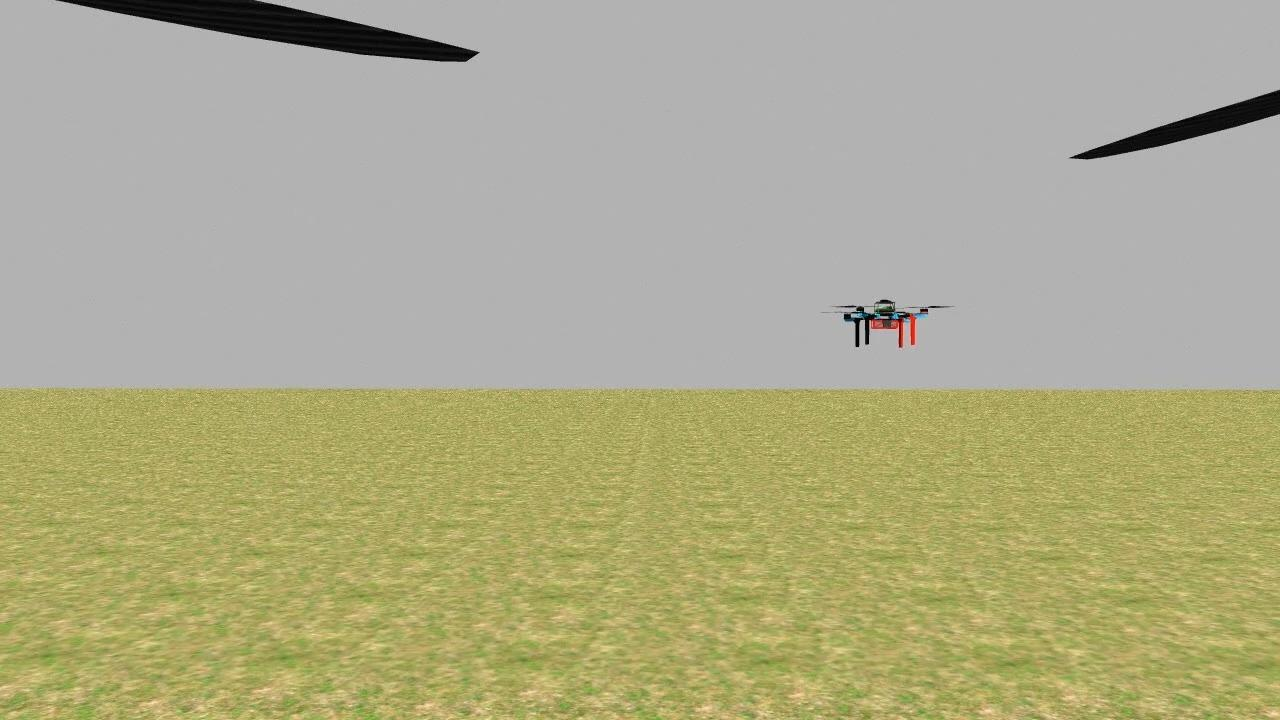UAV: (836, 284, 942, 352)
